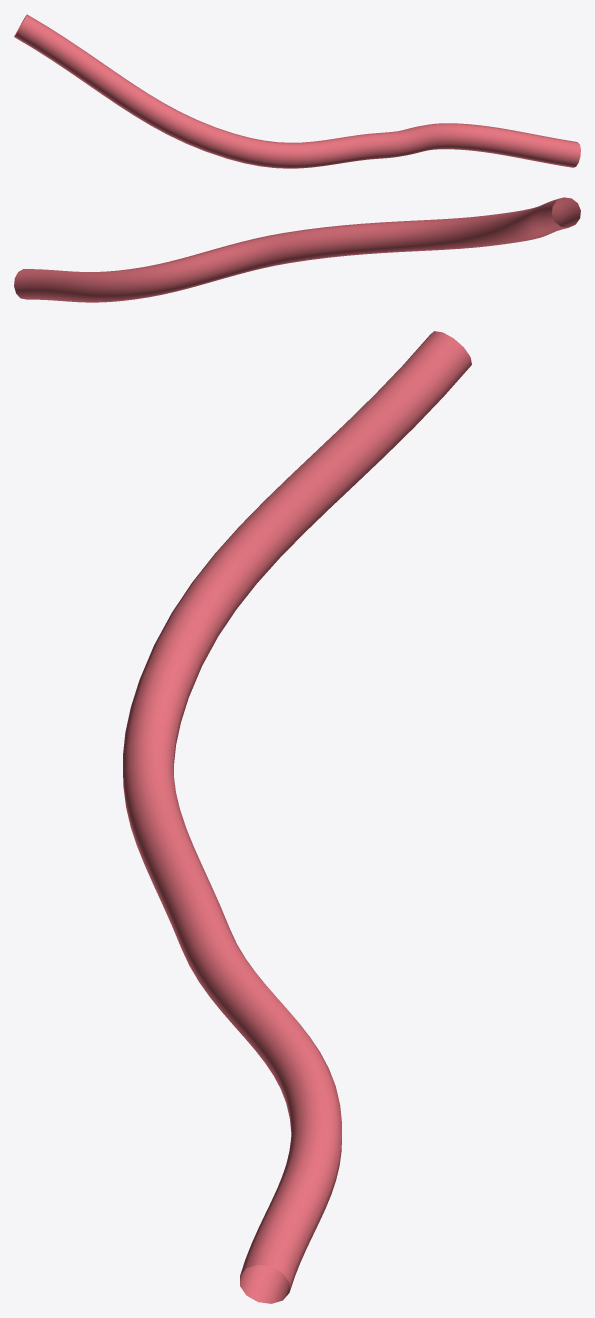
3 renders of one model, top to bottom at view 1: azimuth 30°, elevation 25°; view 2: azimuth 150°, elevation 25°; view 3: azimuth 270°, elevation 25°, orthographic. The views are drawn at different scales.
Visible parts, largest first — view 1: ZA_4dcc160f992982c6; view 2: ZA_4dcc160f992982c6; view 3: ZA_4dcc160f992982c6.
Part boxes in pixels (box(x1,y1,x2,y2)): ZA_4dcc160f992982c6: box(14, 14, 580, 168); ZA_4dcc160f992982c6: box(14, 197, 580, 302); ZA_4dcc160f992982c6: box(123, 331, 471, 1303).
Size of the model in its own units: 0.0321 by 0.0142 by 0.00932.
